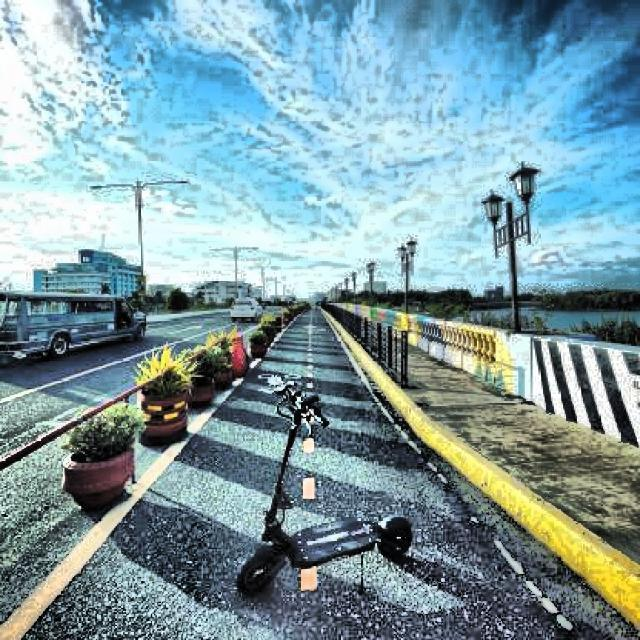bike: (237, 378, 392, 596)
car: (229, 298, 263, 323)
